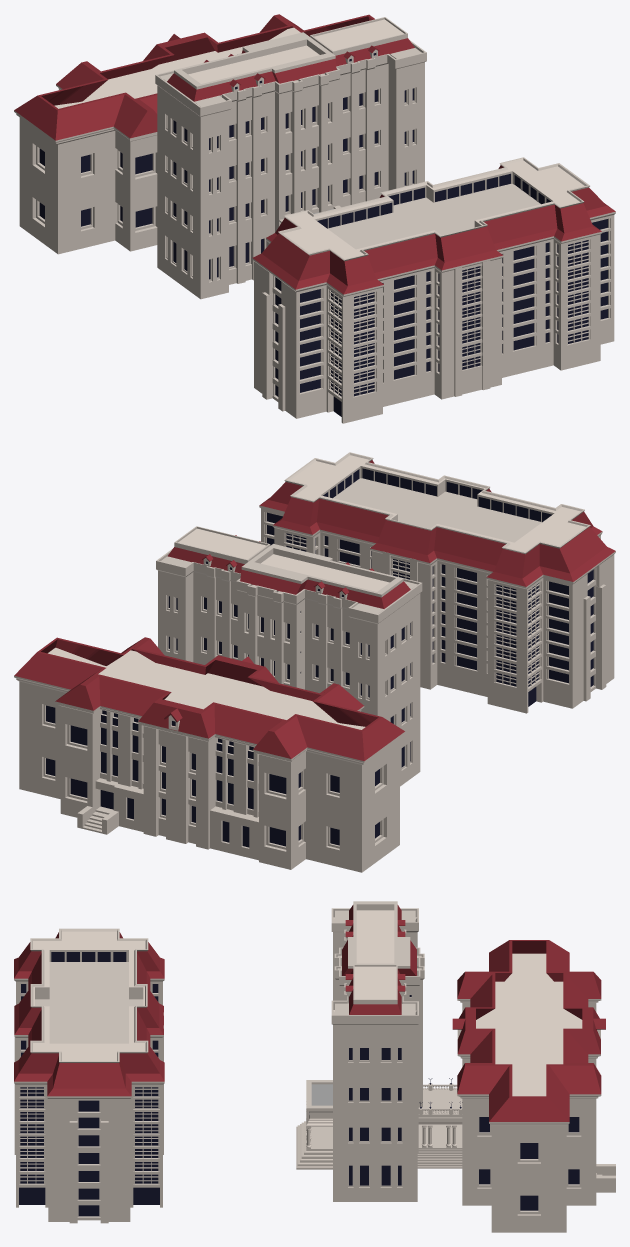
File: CA&ST3-fix-color.fbx
3 views of the same model, one above another, from view 1: azimuth 30°, elevation 25°; view 2: azimuth 150°, elevation 25°; view 3: azimuth 270°, elevation 25° (orthographic). The views are drawn at different scales.
Parts seen in each view (by area): view 1: Cube.012, Plane.005, Plane.001; view 2: Plane.001, Cube.012, Plane.005; view 3: Cube.012, Plane.001, Plane.005, Cube.007, Cube.
Part boxes in pixels (<box>): Cube.012: <box>252,157,615,423</box>; Plane.005: <box>155,17,426,299</box>; Plane.001: <box>14,14,374,254</box>; Plane.001: <box>14,637,405,872</box>; Cube.012: <box>259,452,615,713</box>; Plane.005: <box>156,526,422,786</box>; Cube.012: <box>14,928,164,1223</box>; Plane.001: <box>457,940,615,1232</box>; Plane.005: <box>296,901,456,1201</box>; Cube.007: <box>417,1078,462,1168</box>; Cube: <box>345,920,405,996</box>.
Size of the model in its own units: 7478 by 4104 by 11235.
